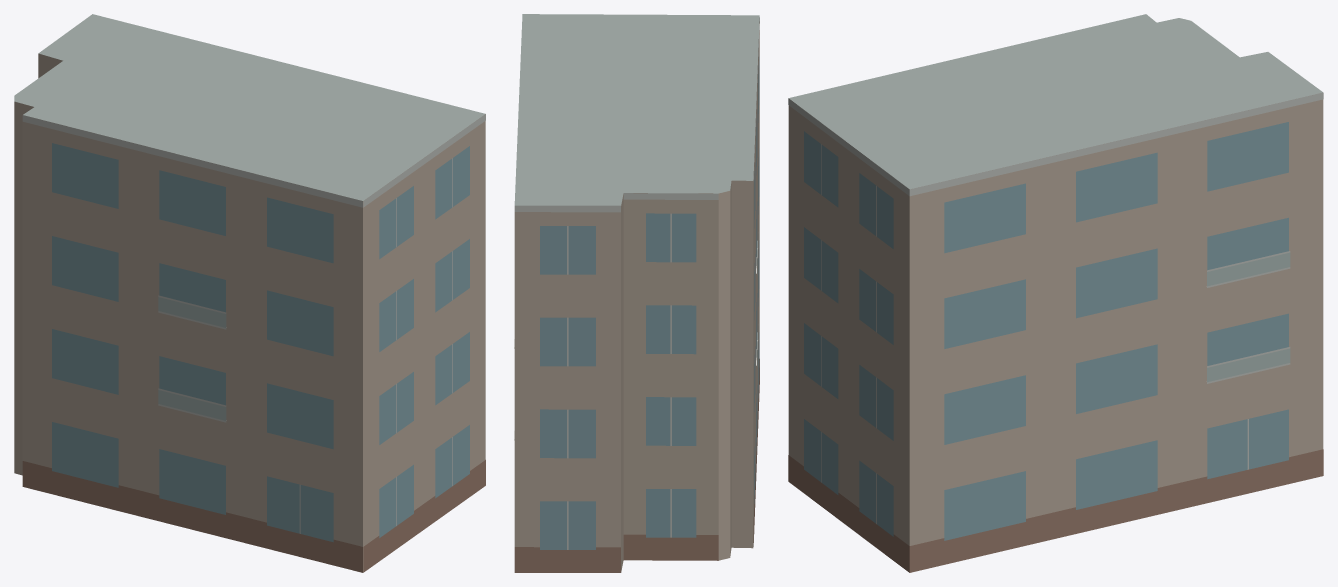
File: survey-upis-32908151.glb
The picture shows the model from 3 angles, left to right: view 1: azimuth 30°, elevation 25°; view 2: azimuth 150°, elevation 25°; view 3: azimuth 270°, elevation 25°; orthographic projection. The views are drawn at different scales.
Parts seen in each view (by area): view 1: survey-upis-32908151.tmp; view 2: survey-upis-32908151.tmp; view 3: survey-upis-32908151.tmp.
Boxes of the visible parts, x1,y1,x2,y2 form: survey-upis-32908151.tmp: (14, 14, 485, 572); survey-upis-32908151.tmp: (514, 14, 759, 572); survey-upis-32908151.tmp: (788, 14, 1323, 572).
Bounding box in the file's own units: 13.3 × 13.55 × 17.14.
